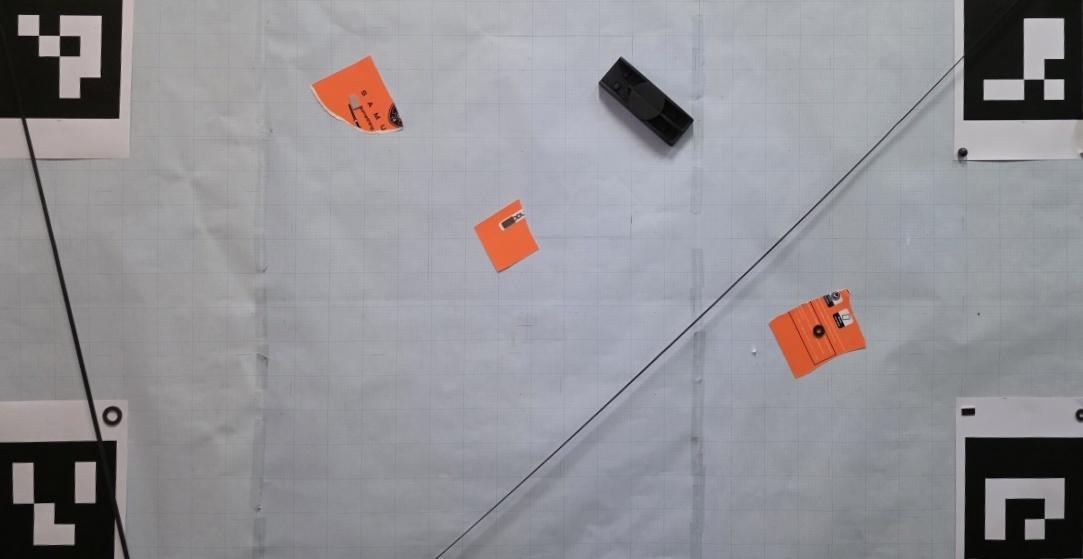obstacle: (598, 56, 695, 149), (769, 288, 865, 378), (308, 54, 403, 134), (475, 198, 539, 274)
